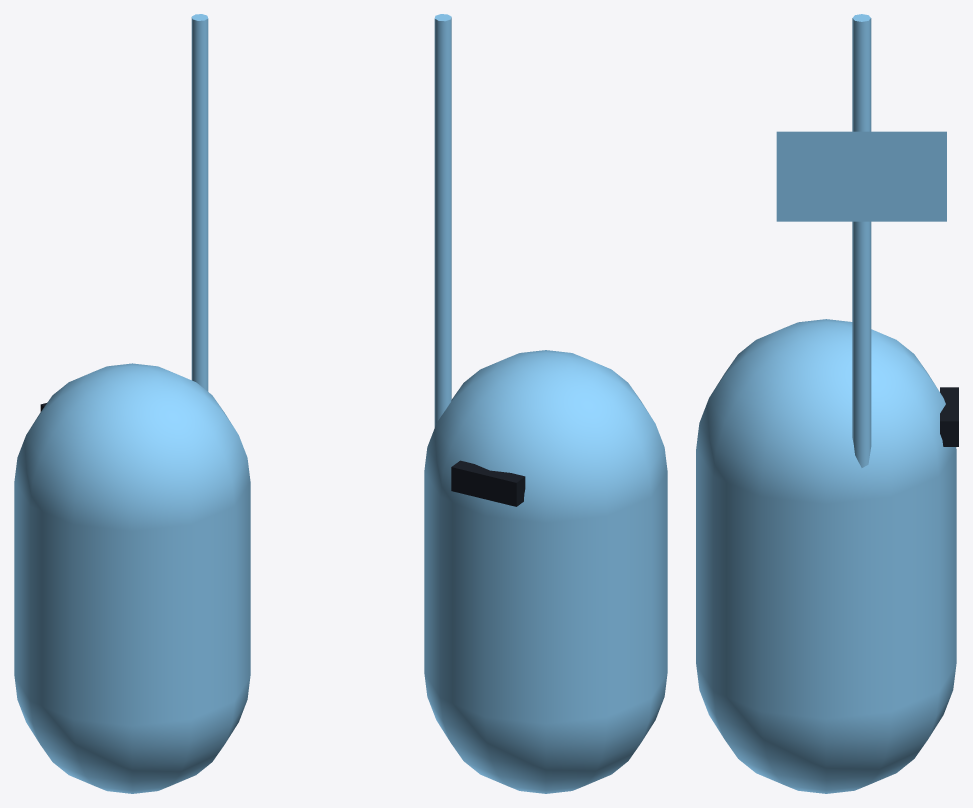
The model's file is enemy-playground-banner-ghoul-v1.glb.
3 views of the same model, side by side, from view 1: azimuth 30°, elevation 25°; view 2: azimuth 150°, elevation 25°; view 3: azimuth 270°, elevation 25° (orthographic). The views are drawn at different scales.
Visible parts, largest first — view 1: Banner Ghoul; view 2: Banner Ghoul; view 3: Banner Ghoul.
Boxes of the visible parts, box(x1,y1,x2,y2) form: Banner Ghoul: box(14, 14, 250, 793); Banner Ghoul: box(424, 14, 667, 793); Banner Ghoul: box(696, 14, 958, 793).
Bounding box in the file's own units: 1.36 × 3.77 × 1.11.
